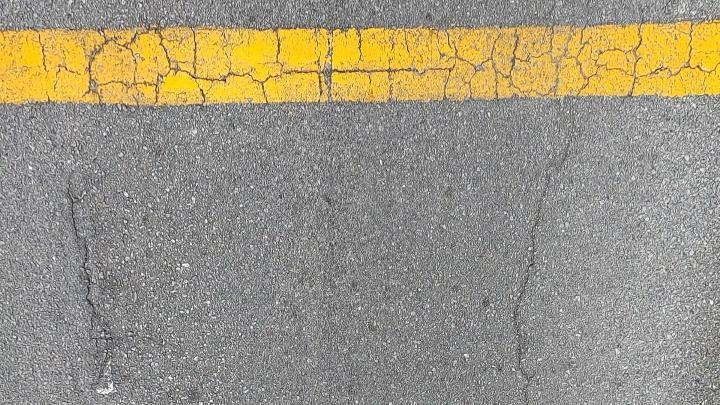Crack: (62, 179, 118, 399), (511, 166, 556, 405), (66, 188, 113, 392), (513, 175, 548, 404)
Lane: (0, 18, 720, 106), (0, 19, 719, 105)
